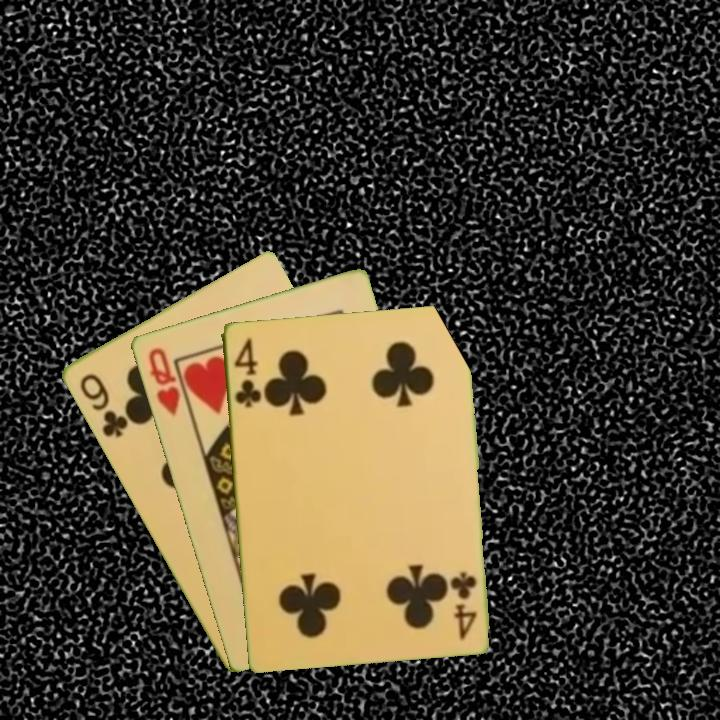4c: (230, 334, 264, 410), (450, 568, 480, 643)
9c: (75, 369, 131, 441)
Qh: (144, 343, 183, 419)
